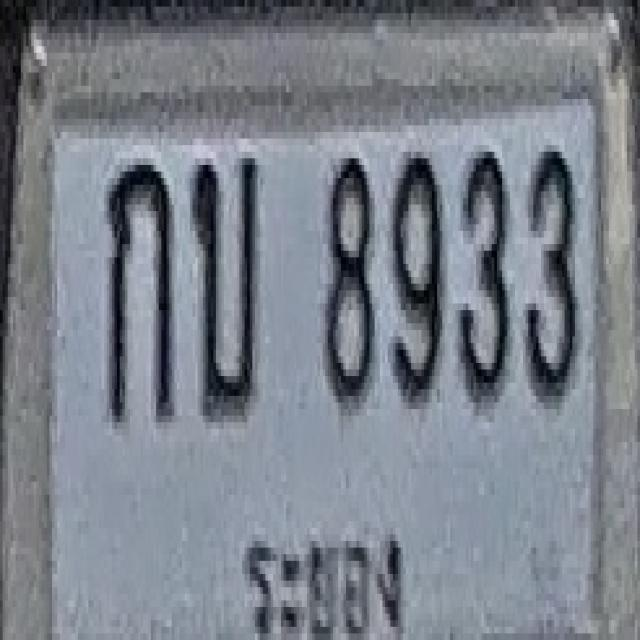-: (190, 152, 257, 416), (106, 158, 172, 422)
3: (458, 145, 510, 403), (526, 145, 578, 403)
8: (324, 152, 373, 402)
9: (390, 148, 442, 406)
RYG: (236, 510, 417, 640)
